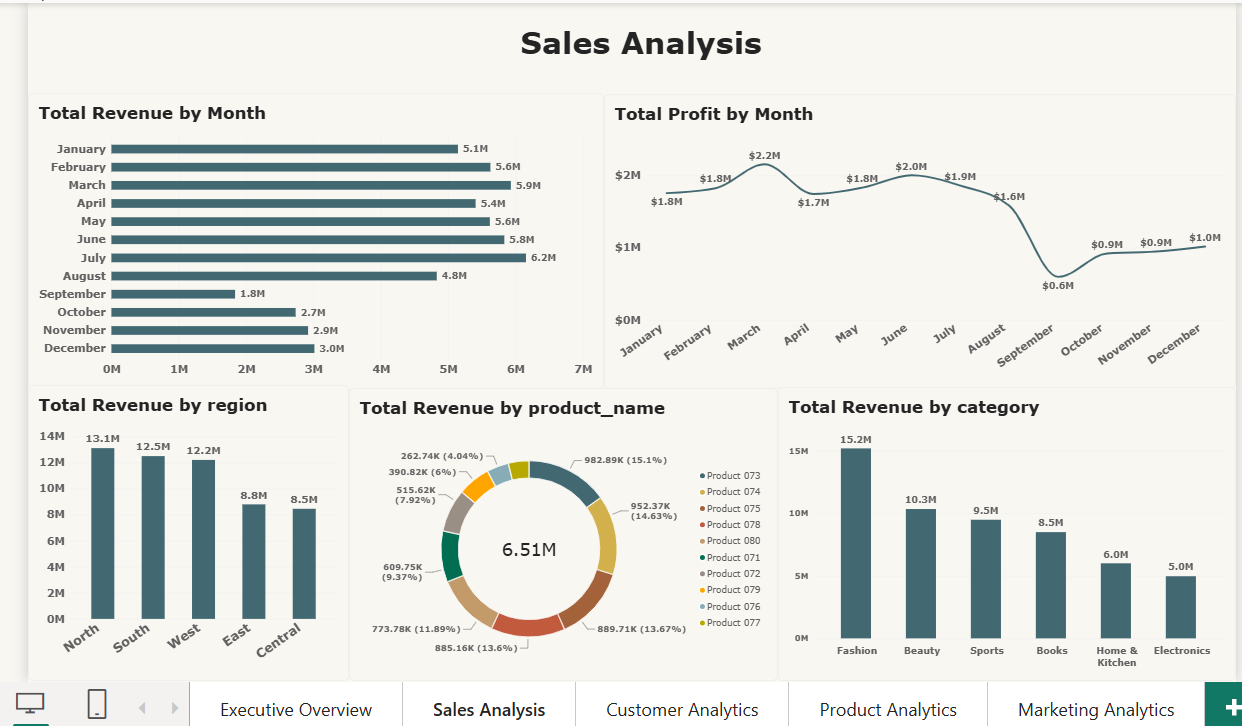

What the dashboard file says about the page in this screenshot:
{"tool":"powerbi","page":{"name":"Sales Analysis","canvas":[1920,1080],"ordinal":1},"visuals":[{"type":"clusteredBarChart","fields":{"Category":["orders_cleaned.order_date.Variation.Date Hierarchy.Month"],"Y":["customers_cleaned.Total Revenue"]},"box":[0,613.2,570.2,467.6],"z":0},{"type":"lineChart","fields":{"Category":["orders_cleaned.order_date.Variation.Date Hierarchy.Month"],"Y":["customers_cleaned.Total Profit"]},"box":[916.2,145.5,1004.5,467.6],"z":1000},{"type":"columnChart","fields":{"Category":["products_cleaned.category"],"Y":["customers_cleaned.Total Revenue"]},"box":[570.2,613.2,625.1,467.6],"z":2000},{"type":"clusteredColumnChart","fields":{"Category":["customers_cleaned.region"],"Y":["customers_cleaned.Total Revenue"]},"box":[0,145.5,916.2,467.6],"z":3000},{"type":"clusteredBarChart","fields":{"Category":["products_cleaned.product_name"],"Y":["customers_cleaned.Total Revenue"]},"box":[1195,614,725,466],"z":4000},{"type":"textbox","box":[510.6,0,959.1,300.6],"z":5000}]}

Visuals, with their boxes on the page's 1920x1080 design canvas (x1, y1, x2, y2). These are canvas units, not pixel positions in the 1242x726 screenshot, which may show the page scaled, cropped or inside an application window:
clusteredBarChart - orders_cleaned.order_date.Variation.Date Hierarchy.Month x customers_cleaned.Total Revenue: 0,613,570,1081
lineChart - orders_cleaned.order_date.Variation.Date Hierarchy.Month x customers_cleaned.Total Profit: 916,146,1921,613
columnChart - products_cleaned.category x customers_cleaned.Total Revenue: 570,613,1195,1081
clusteredColumnChart - customers_cleaned.region x customers_cleaned.Total Revenue: 0,146,916,613
clusteredBarChart - products_cleaned.product_name x customers_cleaned.Total Revenue: 1195,614,1920,1080
textbox: 511,0,1470,301
